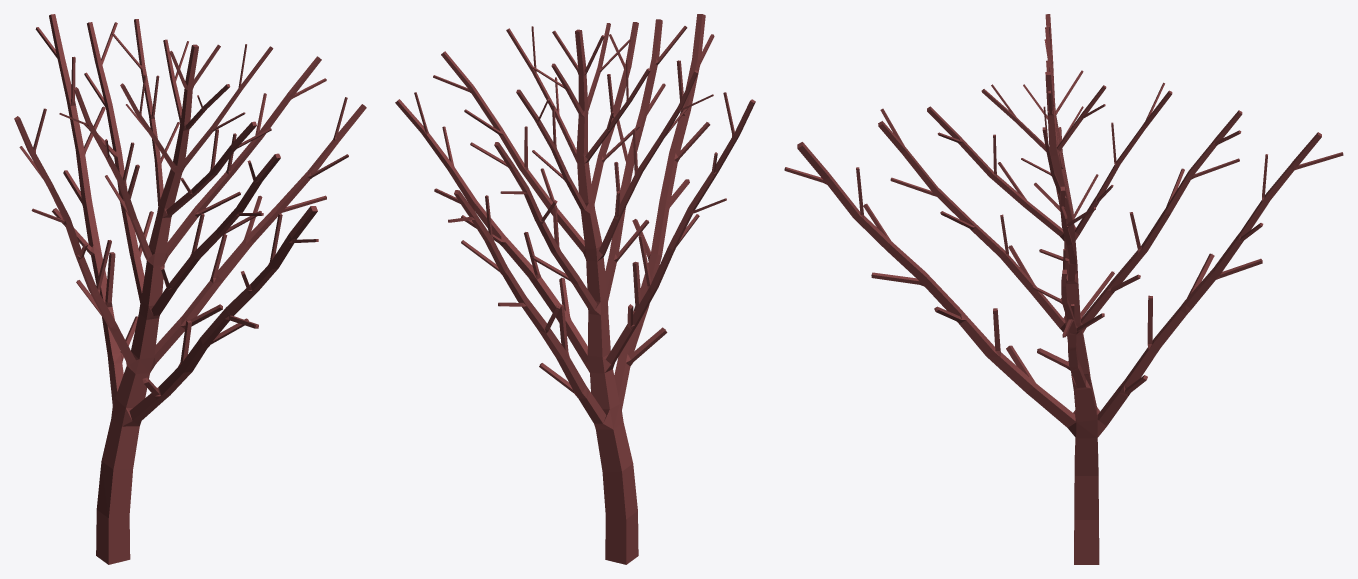
File: tree.dae
The picture shows the model from 3 angles, left to right: view 1: azimuth 30°, elevation 25°; view 2: azimuth 150°, elevation 25°; view 3: azimuth 270°, elevation 25°; orthographic projection. The views are drawn at different scales.
Visible parts, largest first — view 1: Mesh_Object; view 2: Mesh_Object; view 3: Mesh_Object.
Boxes of the visible parts, x1=… form: Mesh_Object: x1=14, y1=14, x2=366, y2=564; Mesh_Object: x1=395, y1=14, x2=755, y2=564; Mesh_Object: x1=784, y1=14, x2=1343, y2=564.
Bounding box in the file's own units: 4.28 × 5.82 × 5.69.
